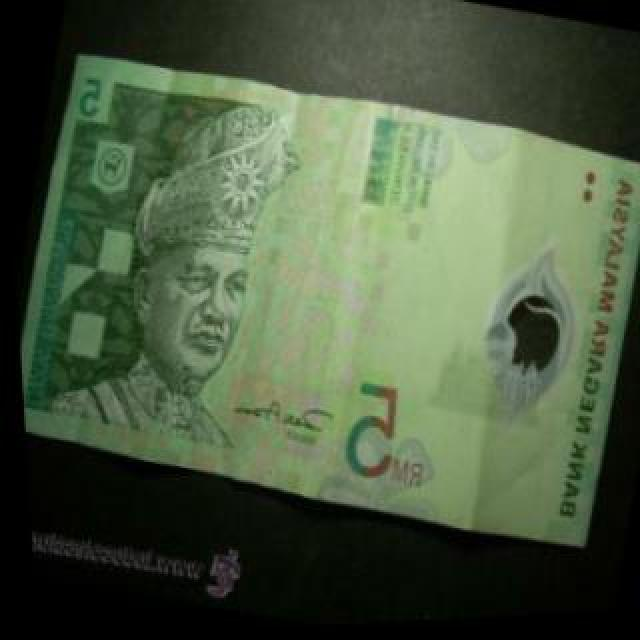5 Ringgit: (1, 28, 640, 584)
